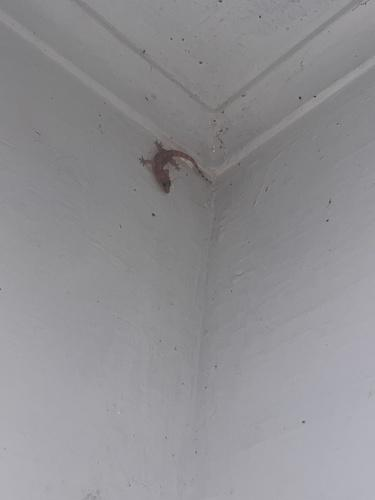lizard: (137, 137, 214, 204)
